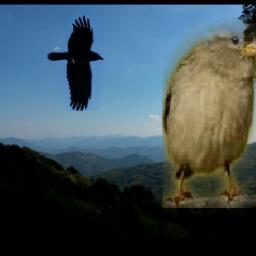Crow: (47, 15, 103, 111)
Sparrow: (162, 17, 256, 208)
